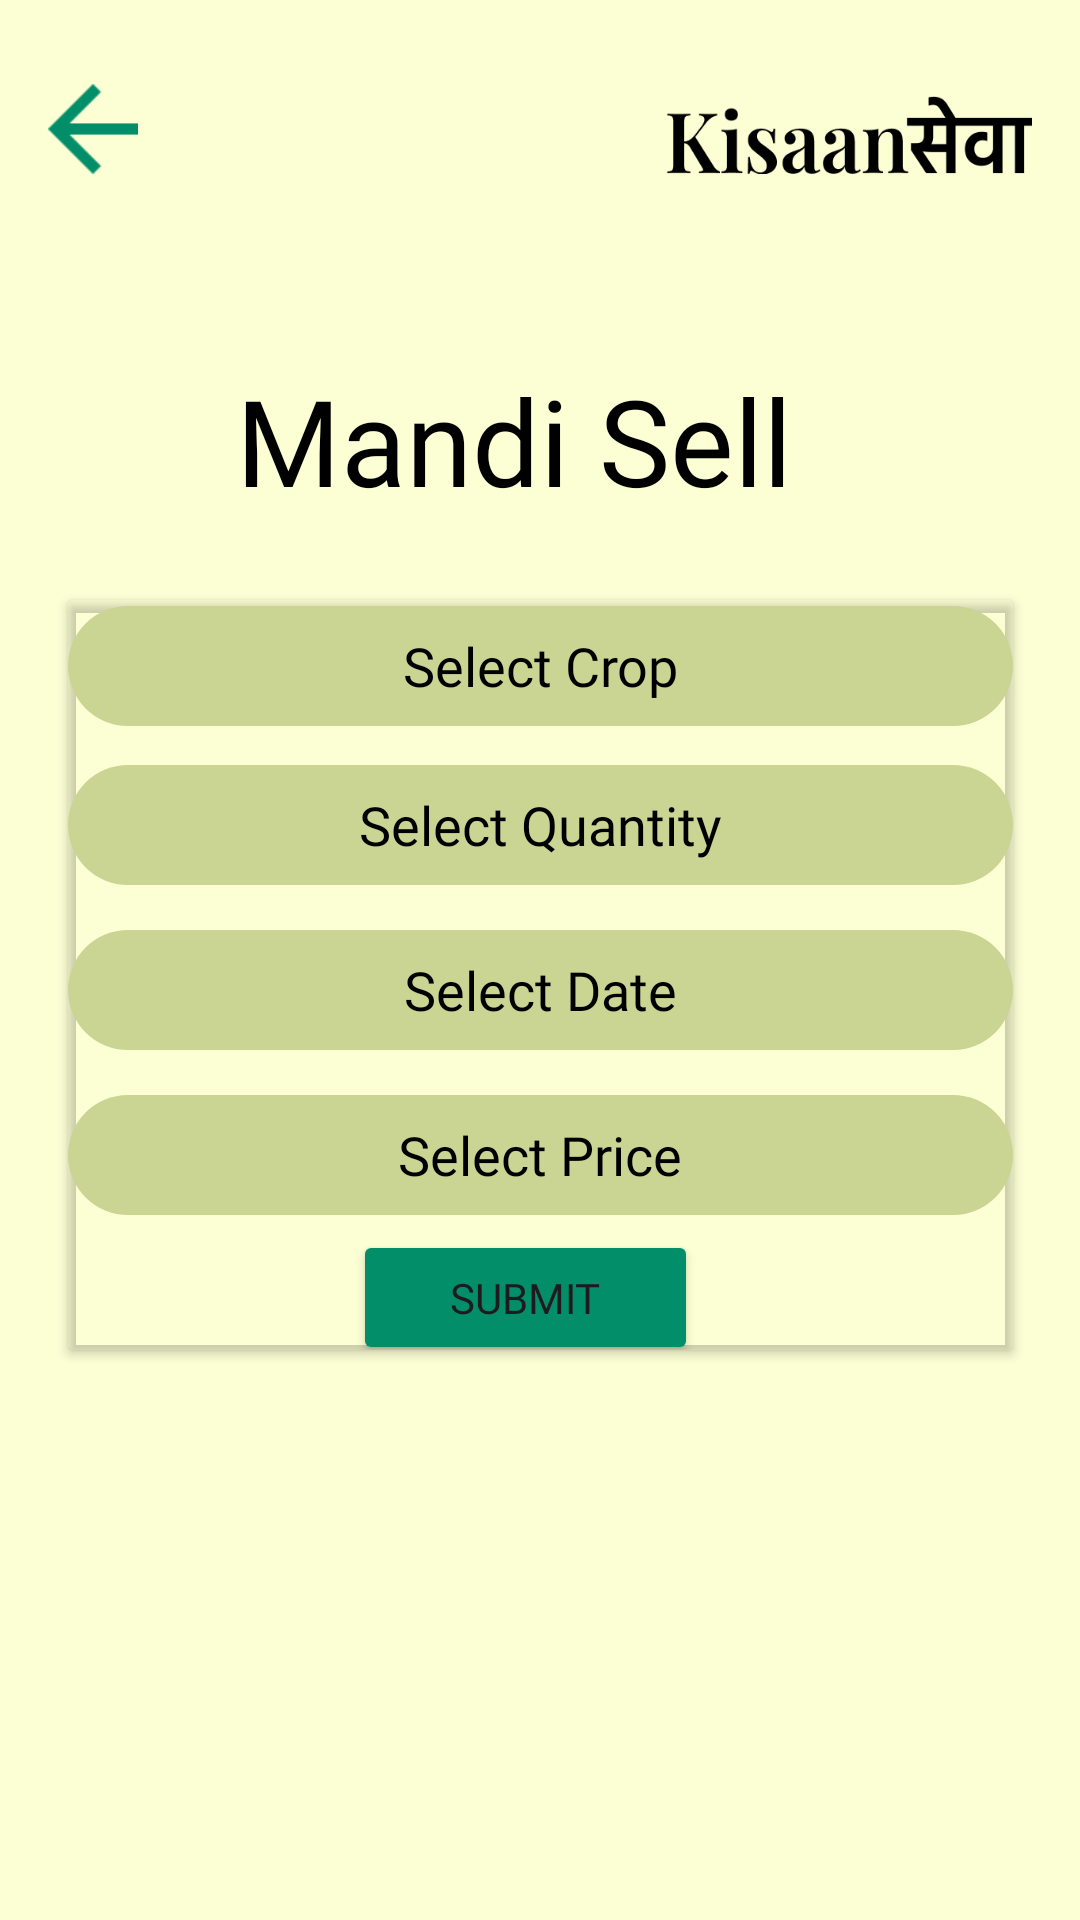

Icons on this 1080w x 1920h Android screen, each with its box as (x1, y1, x2, y2):
back: (48, 84, 138, 174)
